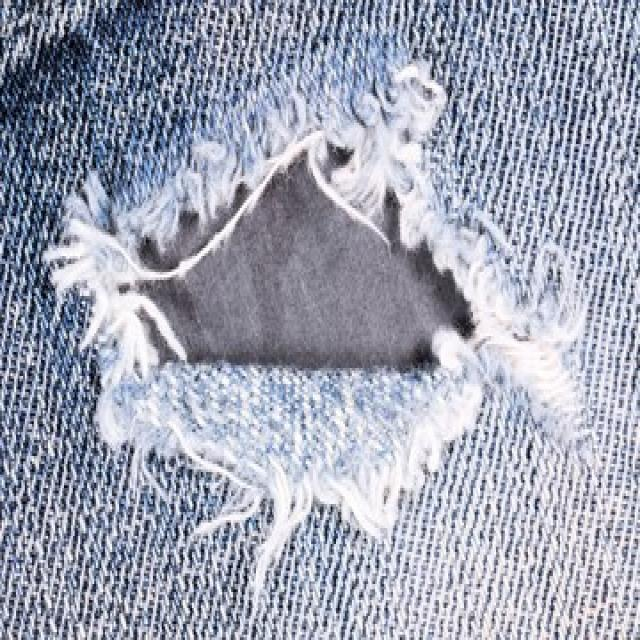Hole: (47, 61, 516, 562)
